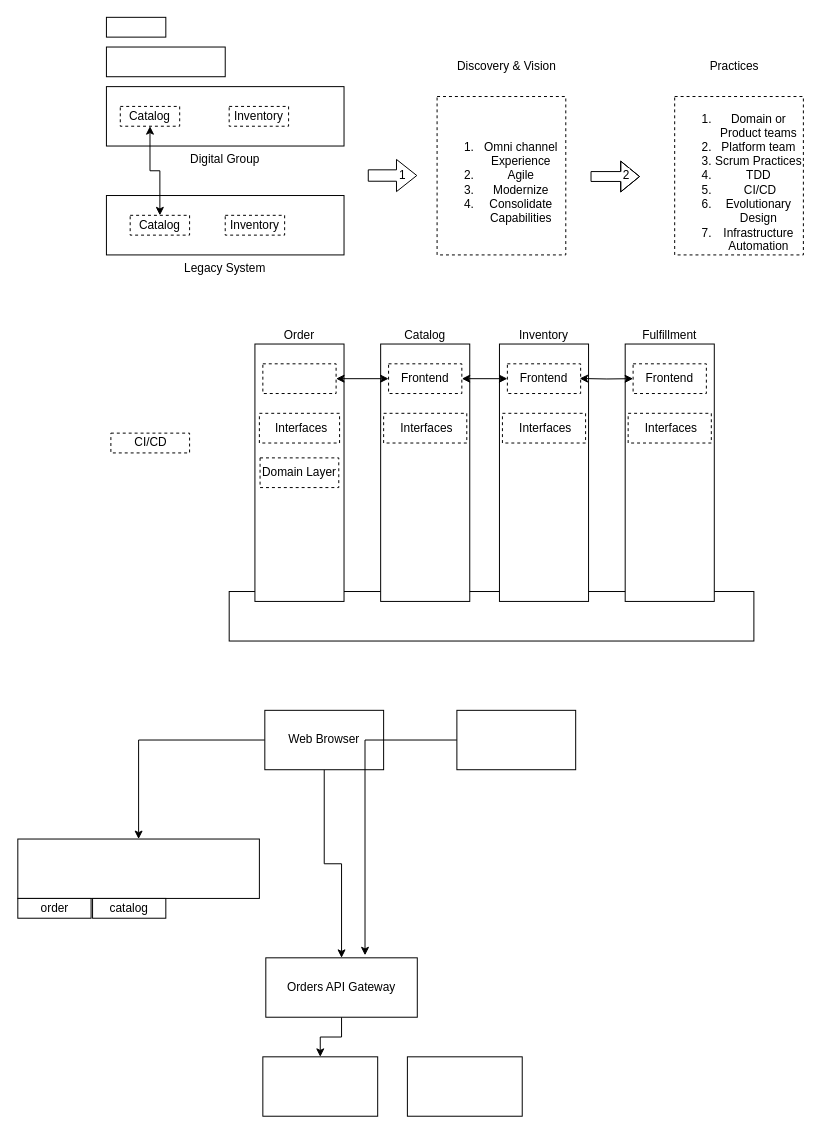
Image size: 821x1134. Some labels were removed from this diagram. The centre of each missing label's shape, as x and y in pixels:
Catalog API: pixel 464 1086
Mobile: pixel 135 26
Mobile Devices: pixel 516 739
Online Store: pixel 165 61
Order API: pixel 320 1086
Platform (Infra automation & enablement): pixel 491 616
UI Capabilities: pixel 299 378
Web Content: pixel 138 868
